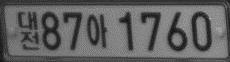0: (190, 10, 212, 52)
1: (116, 11, 138, 51)
6: (166, 11, 189, 51)
7: (62, 11, 84, 51), (140, 11, 161, 51)
8: (41, 11, 62, 51)
대전_V: (17, 9, 40, 51)
아: (86, 13, 108, 48)
